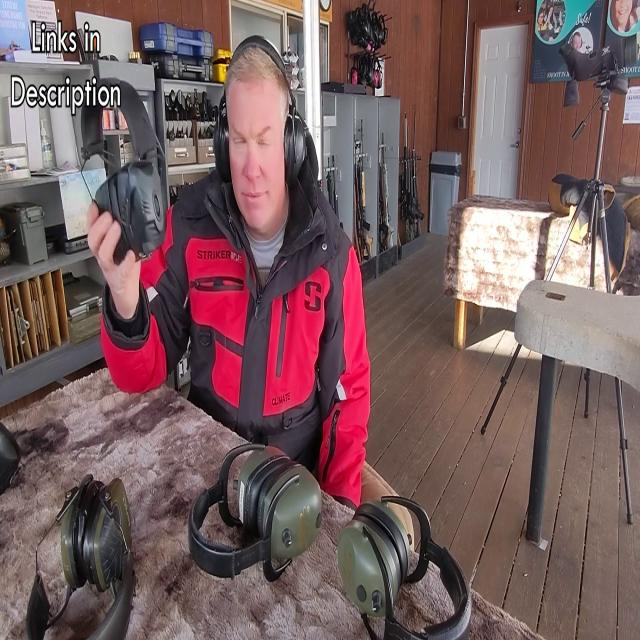earmuff: (118, 156, 171, 258), (282, 109, 312, 194), (211, 111, 231, 185)
